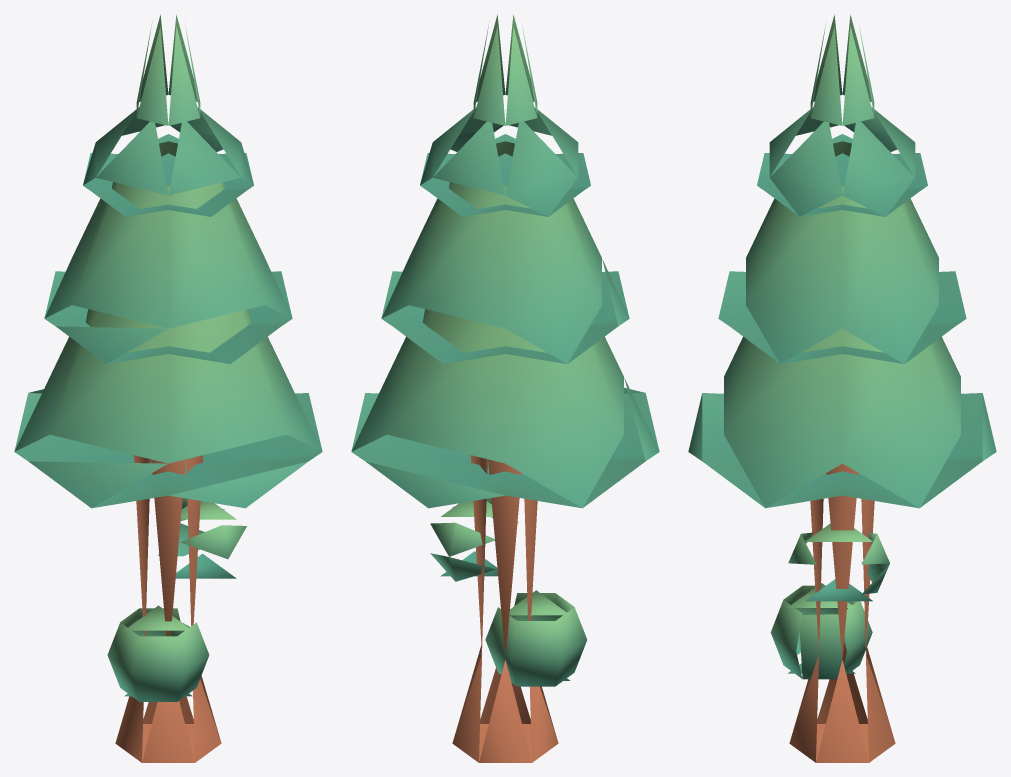
The model's file is pine_tree_01_LOD1.glb.
The picture shows the model from 3 angles, left to right: view 1: azimuth 30°, elevation 25°; view 2: azimuth 150°, elevation 25°; view 3: azimuth 270°, elevation 25°; orthographic projection.
Parts seen in each view (by area): view 1: tree-high; view 2: tree-high; view 3: tree-high.
Boxes of the visible parts, bbox=[...] form: tree-high: bbox=[14, 14, 322, 762]; tree-high: bbox=[351, 14, 659, 762]; tree-high: bbox=[688, 14, 996, 762].
Size of what is drawn, in the model's own units: 1.11 by 2.74 by 1.06.
Materials: 1 (1 with a texture image).
